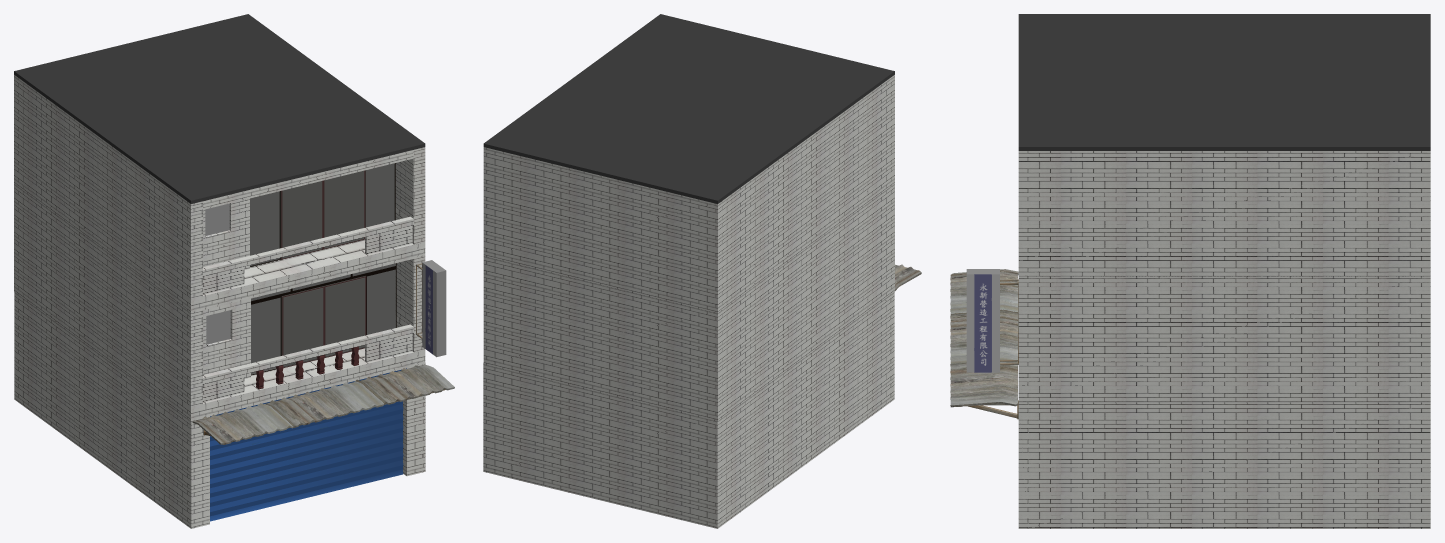
File: 裝飾建築4.fbx
3 views of the same model, side by side, from view 1: azimuth 30°, elevation 25°; view 2: azimuth 150°, elevation 25°; view 3: azimuth 270°, elevation 25° (orthographic). The views are drawn at different scales.
Visible parts, largest first — view 1: Box019, Box002, Box033, Plane001, Box010, Box020, 鐵皮, Box022; view 2: Box019, Box002, Box033; view 3: Box019, Box033, Box002, 鐵皮, Box022.
Boxes of the visible parts, bbox=[...] form: Box019: bbox=[14, 14, 425, 312]; Box002: bbox=[14, 183, 425, 420]; Box033: bbox=[14, 292, 425, 528]; Plane001: bbox=[210, 401, 403, 521]; Box010: bbox=[203, 263, 396, 378]; Box020: bbox=[203, 163, 395, 269]; 鐵皮: bbox=[192, 365, 454, 444]; Box022: bbox=[422, 260, 446, 357]; Box019: bbox=[483, 14, 894, 312]; Box002: bbox=[483, 183, 894, 420]; Box033: bbox=[483, 292, 894, 528]; Box019: bbox=[1018, 14, 1430, 277]; Box033: bbox=[1018, 402, 1430, 528]; Box002: bbox=[1018, 276, 1430, 401]; 鐵皮: bbox=[950, 269, 1018, 407]; Box022: bbox=[966, 269, 999, 372].
Bounding box in the file's own units: 723 × 965 × 1099.
20 materials, 8 textured.
